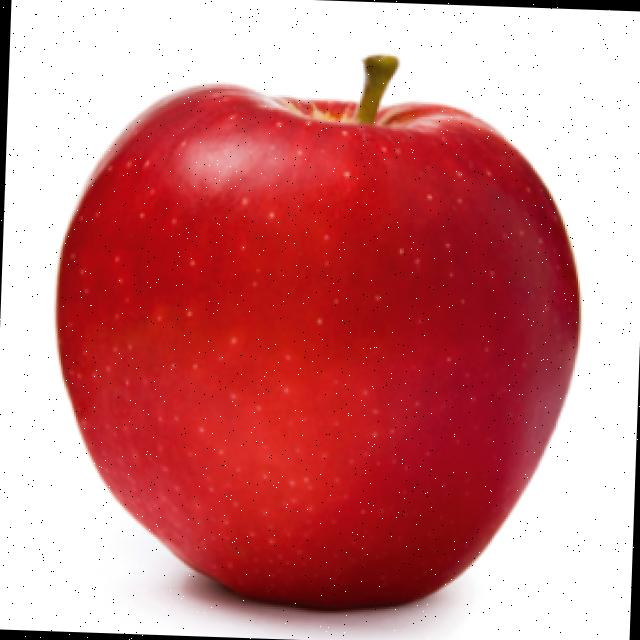Apel: (43, 42, 590, 617)
